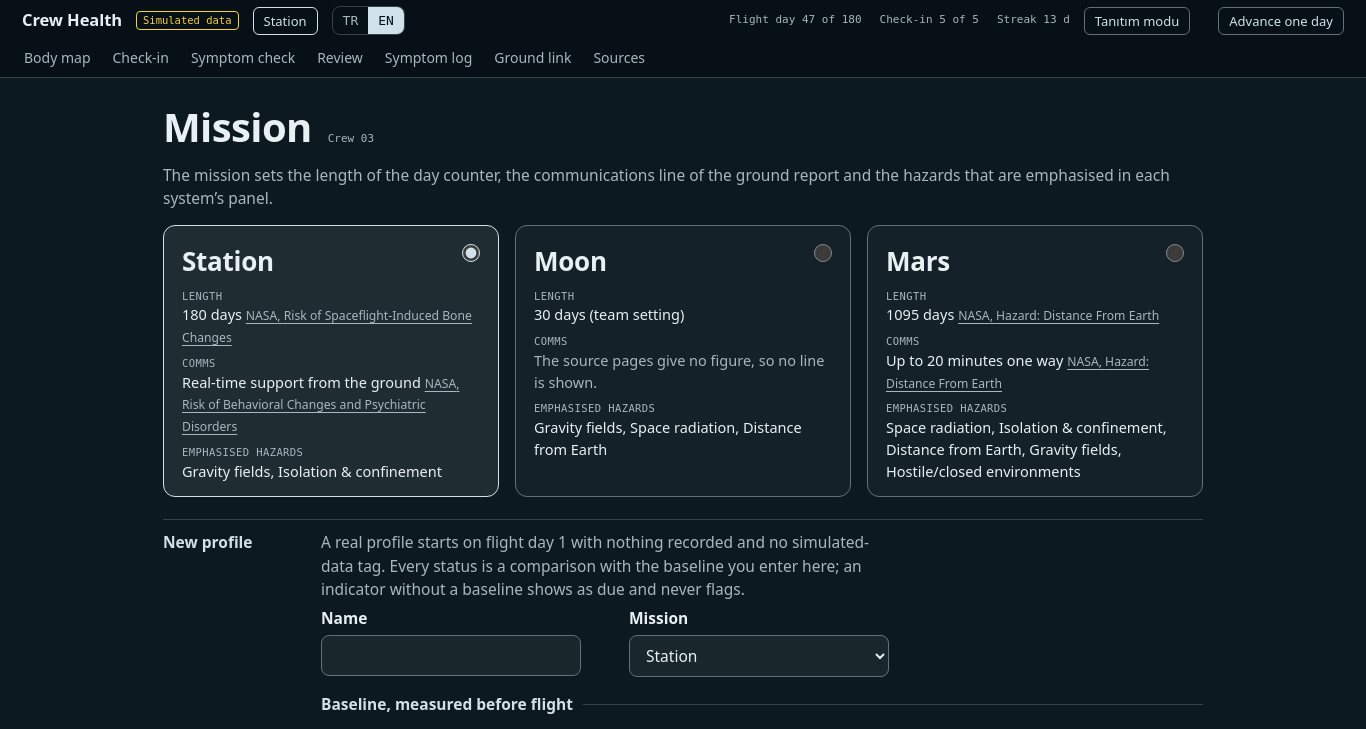
a new profile › an invalid baseline blocks the save and explains
Type "Ada" into the field labelled "Name". click: [451, 656]
box: [321,635,581,676]
(page scrolled)
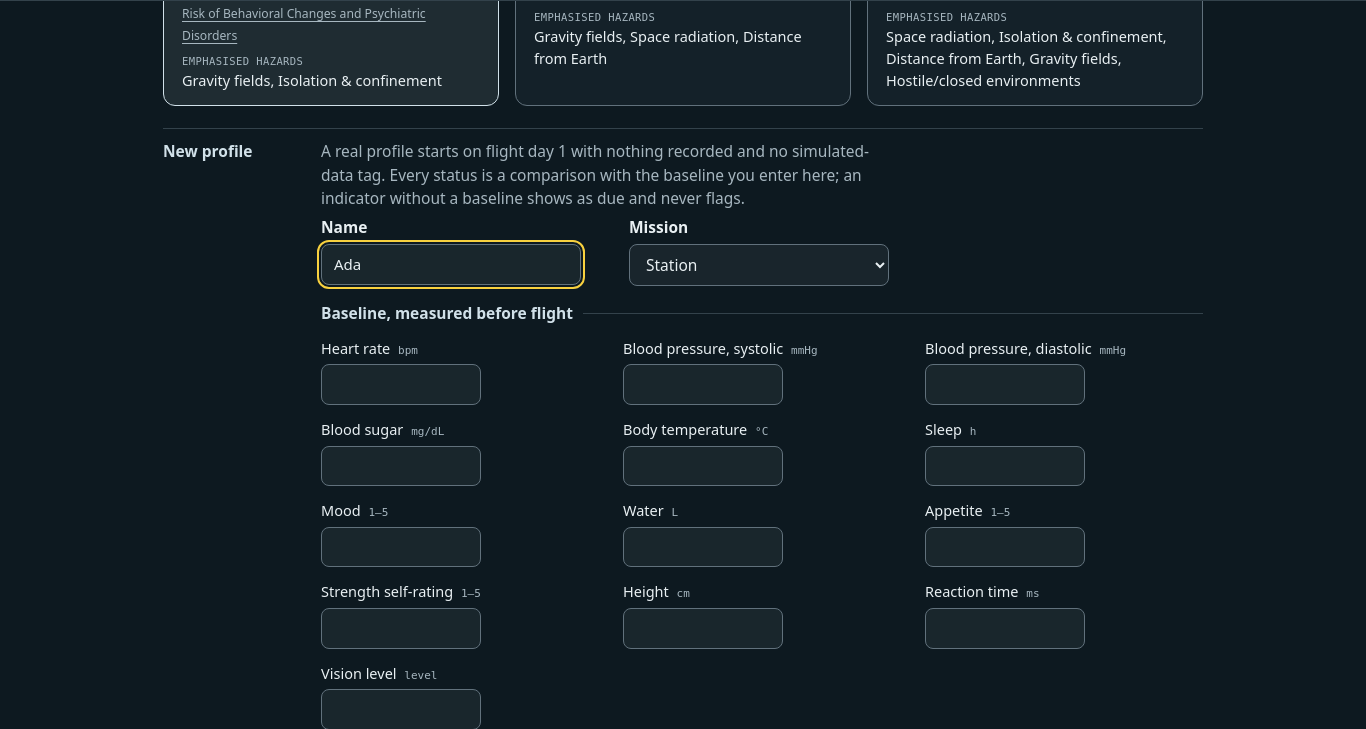
Type "400" into the field labelled "Heart rate bpm". click: [401, 385]
box: [321,364,481,405]
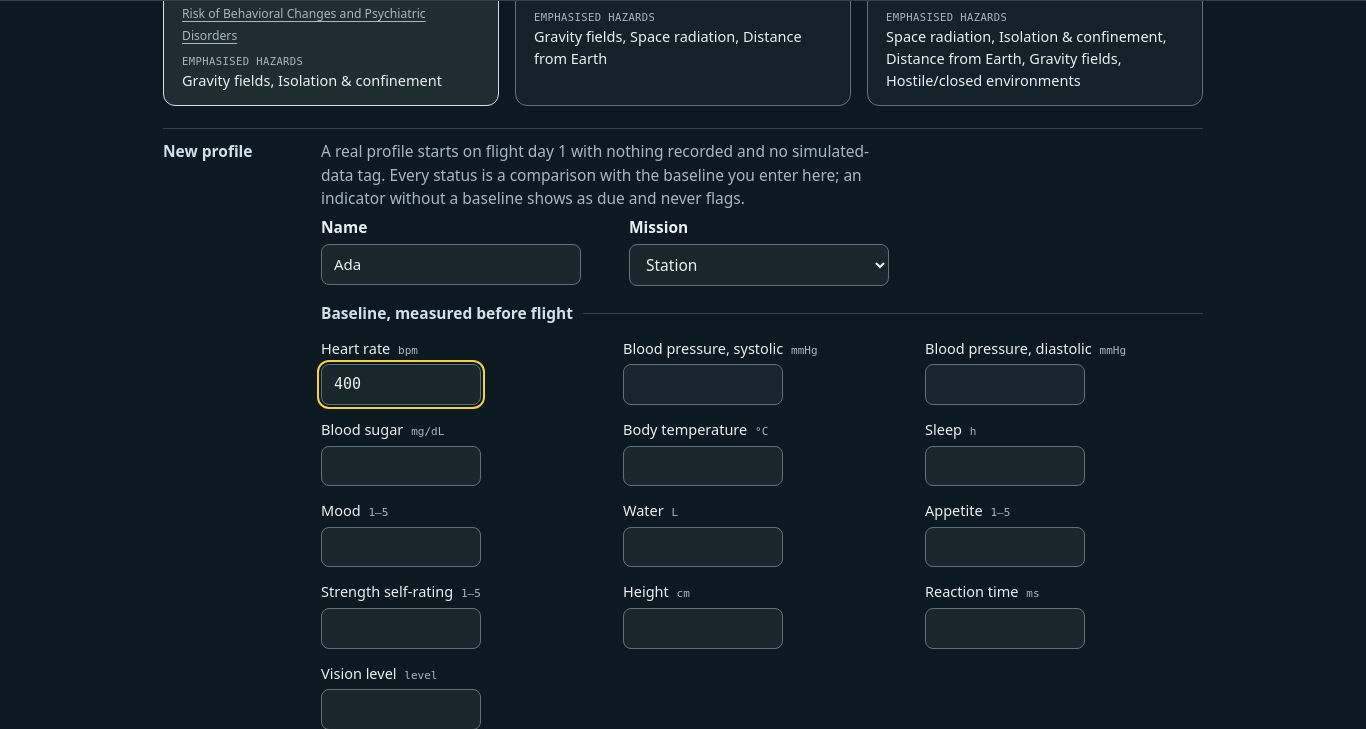
Type "eight" into the field labelled "Sleep h". click: [1005, 466]
box: [925,446,1085,486]
(page scrolled)
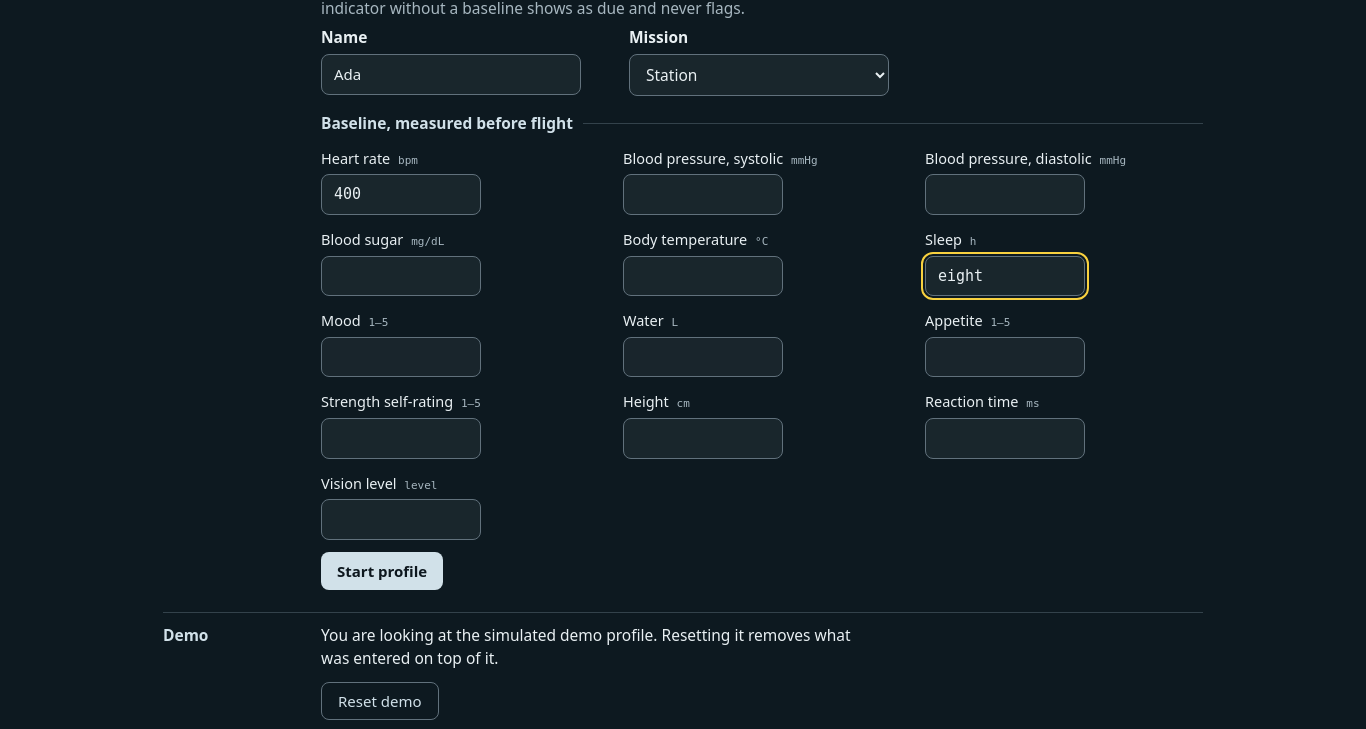
Click the button "Start profile". click: [382, 571]
box: [321,552,443,590]
(page scrolled)
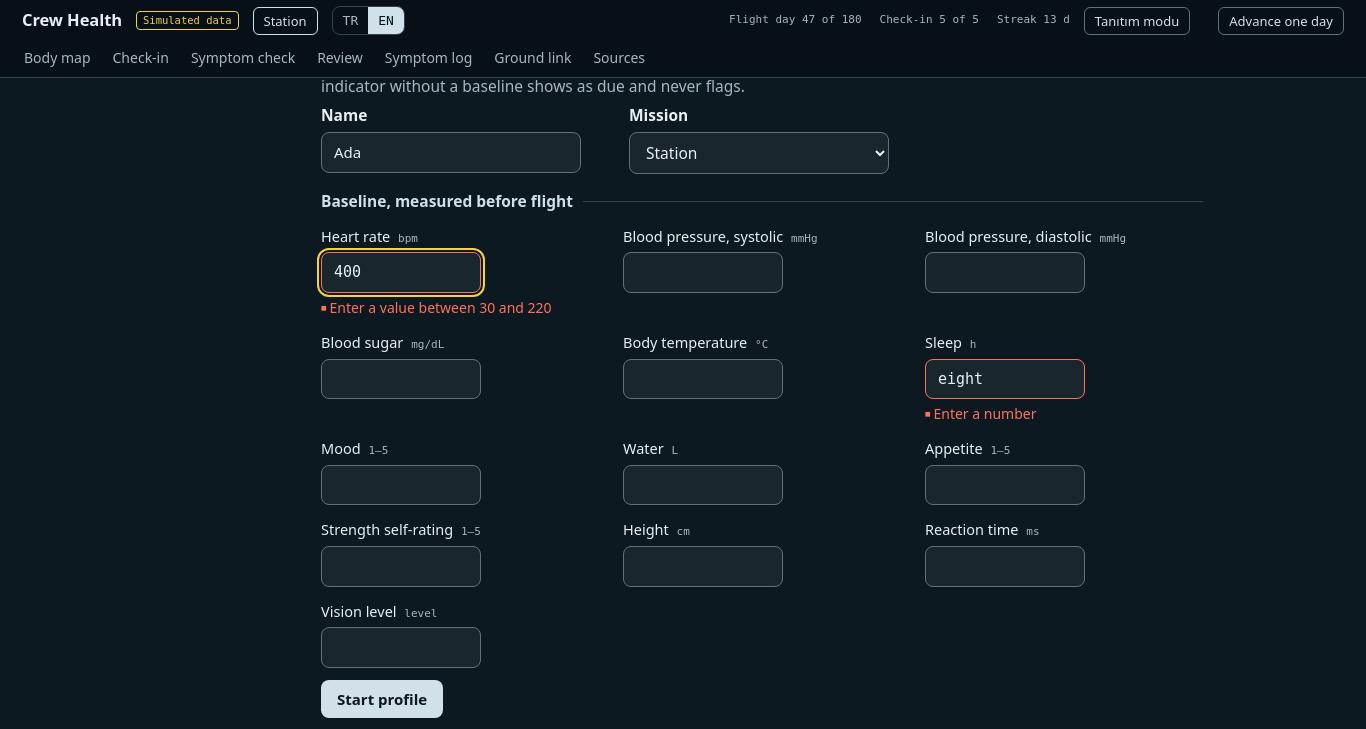
Expected: the text "Simulated data" is shown, [136,11,238,30]
Expected: the text "Enter a value between 30 and 220" is shown, [330,298,552,317]
Expected: the text "Enter a number" is shown, [934,404,1036,423]
